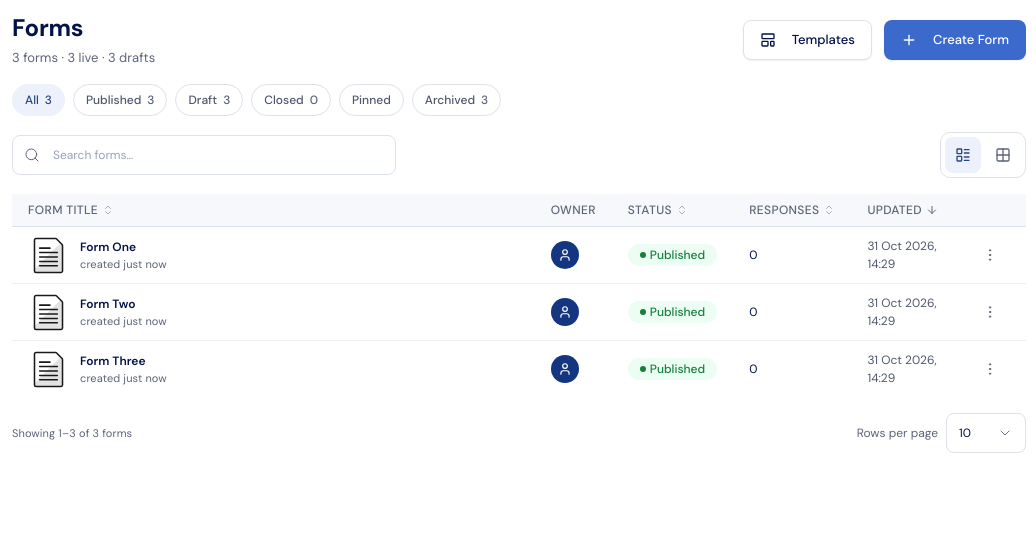
it: WorkspaceFormsPage — FormsPage rendered with workspace context › bulk selection and delete (task 6.4) › "select all on this page" checks every row and its own label updates
Double-click the link "Form One": (108, 247) [80,238,136,256]
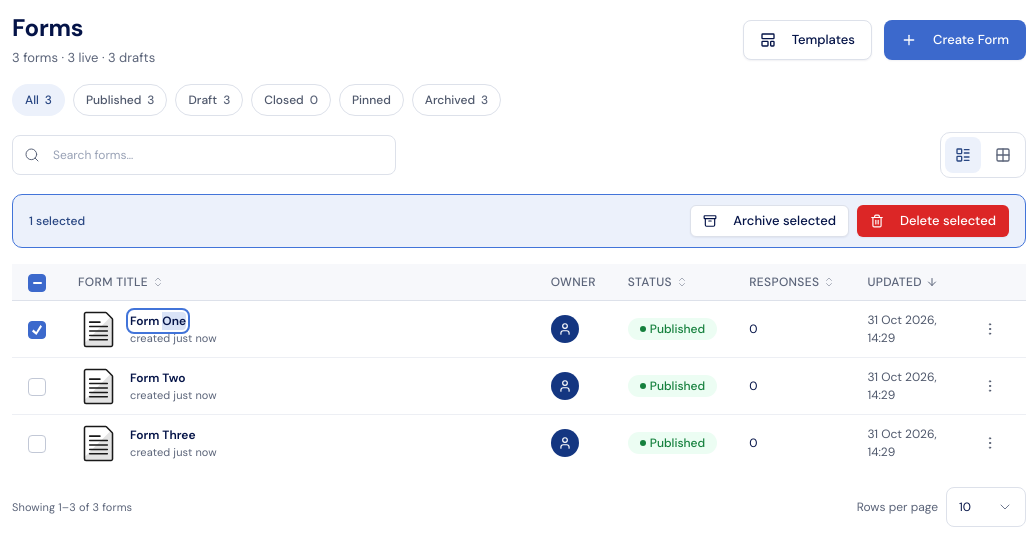
Click the checkbox named "Select all forms on this page": (37, 283) [28,274,46,292]
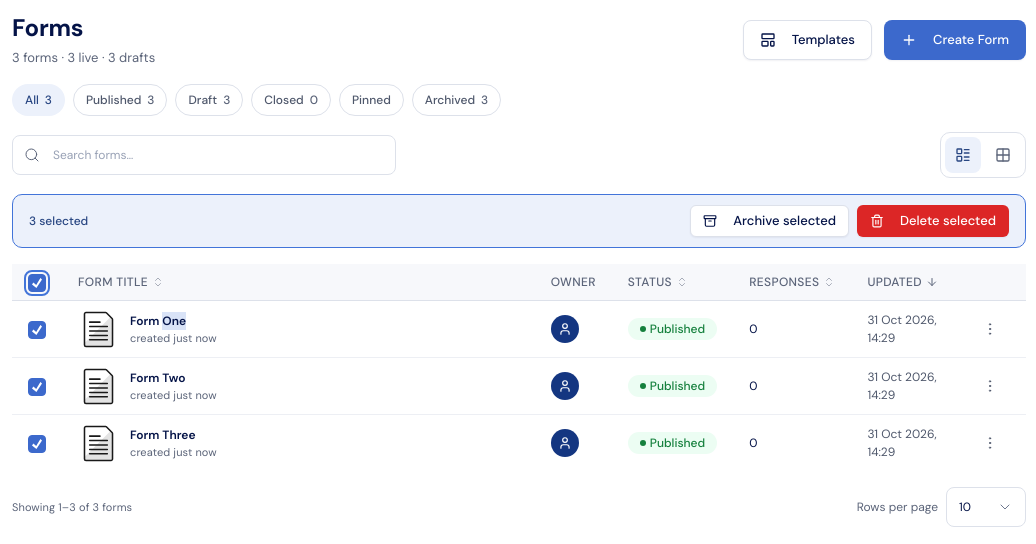
Expected: the checkbox named "Select Form One" is checked, [28,321,46,339]
Expected: the text "3 selected" is shown, [29,212,88,230]
Expected: the checkbox named "Select Form Two" is checked, [28,378,46,396]
